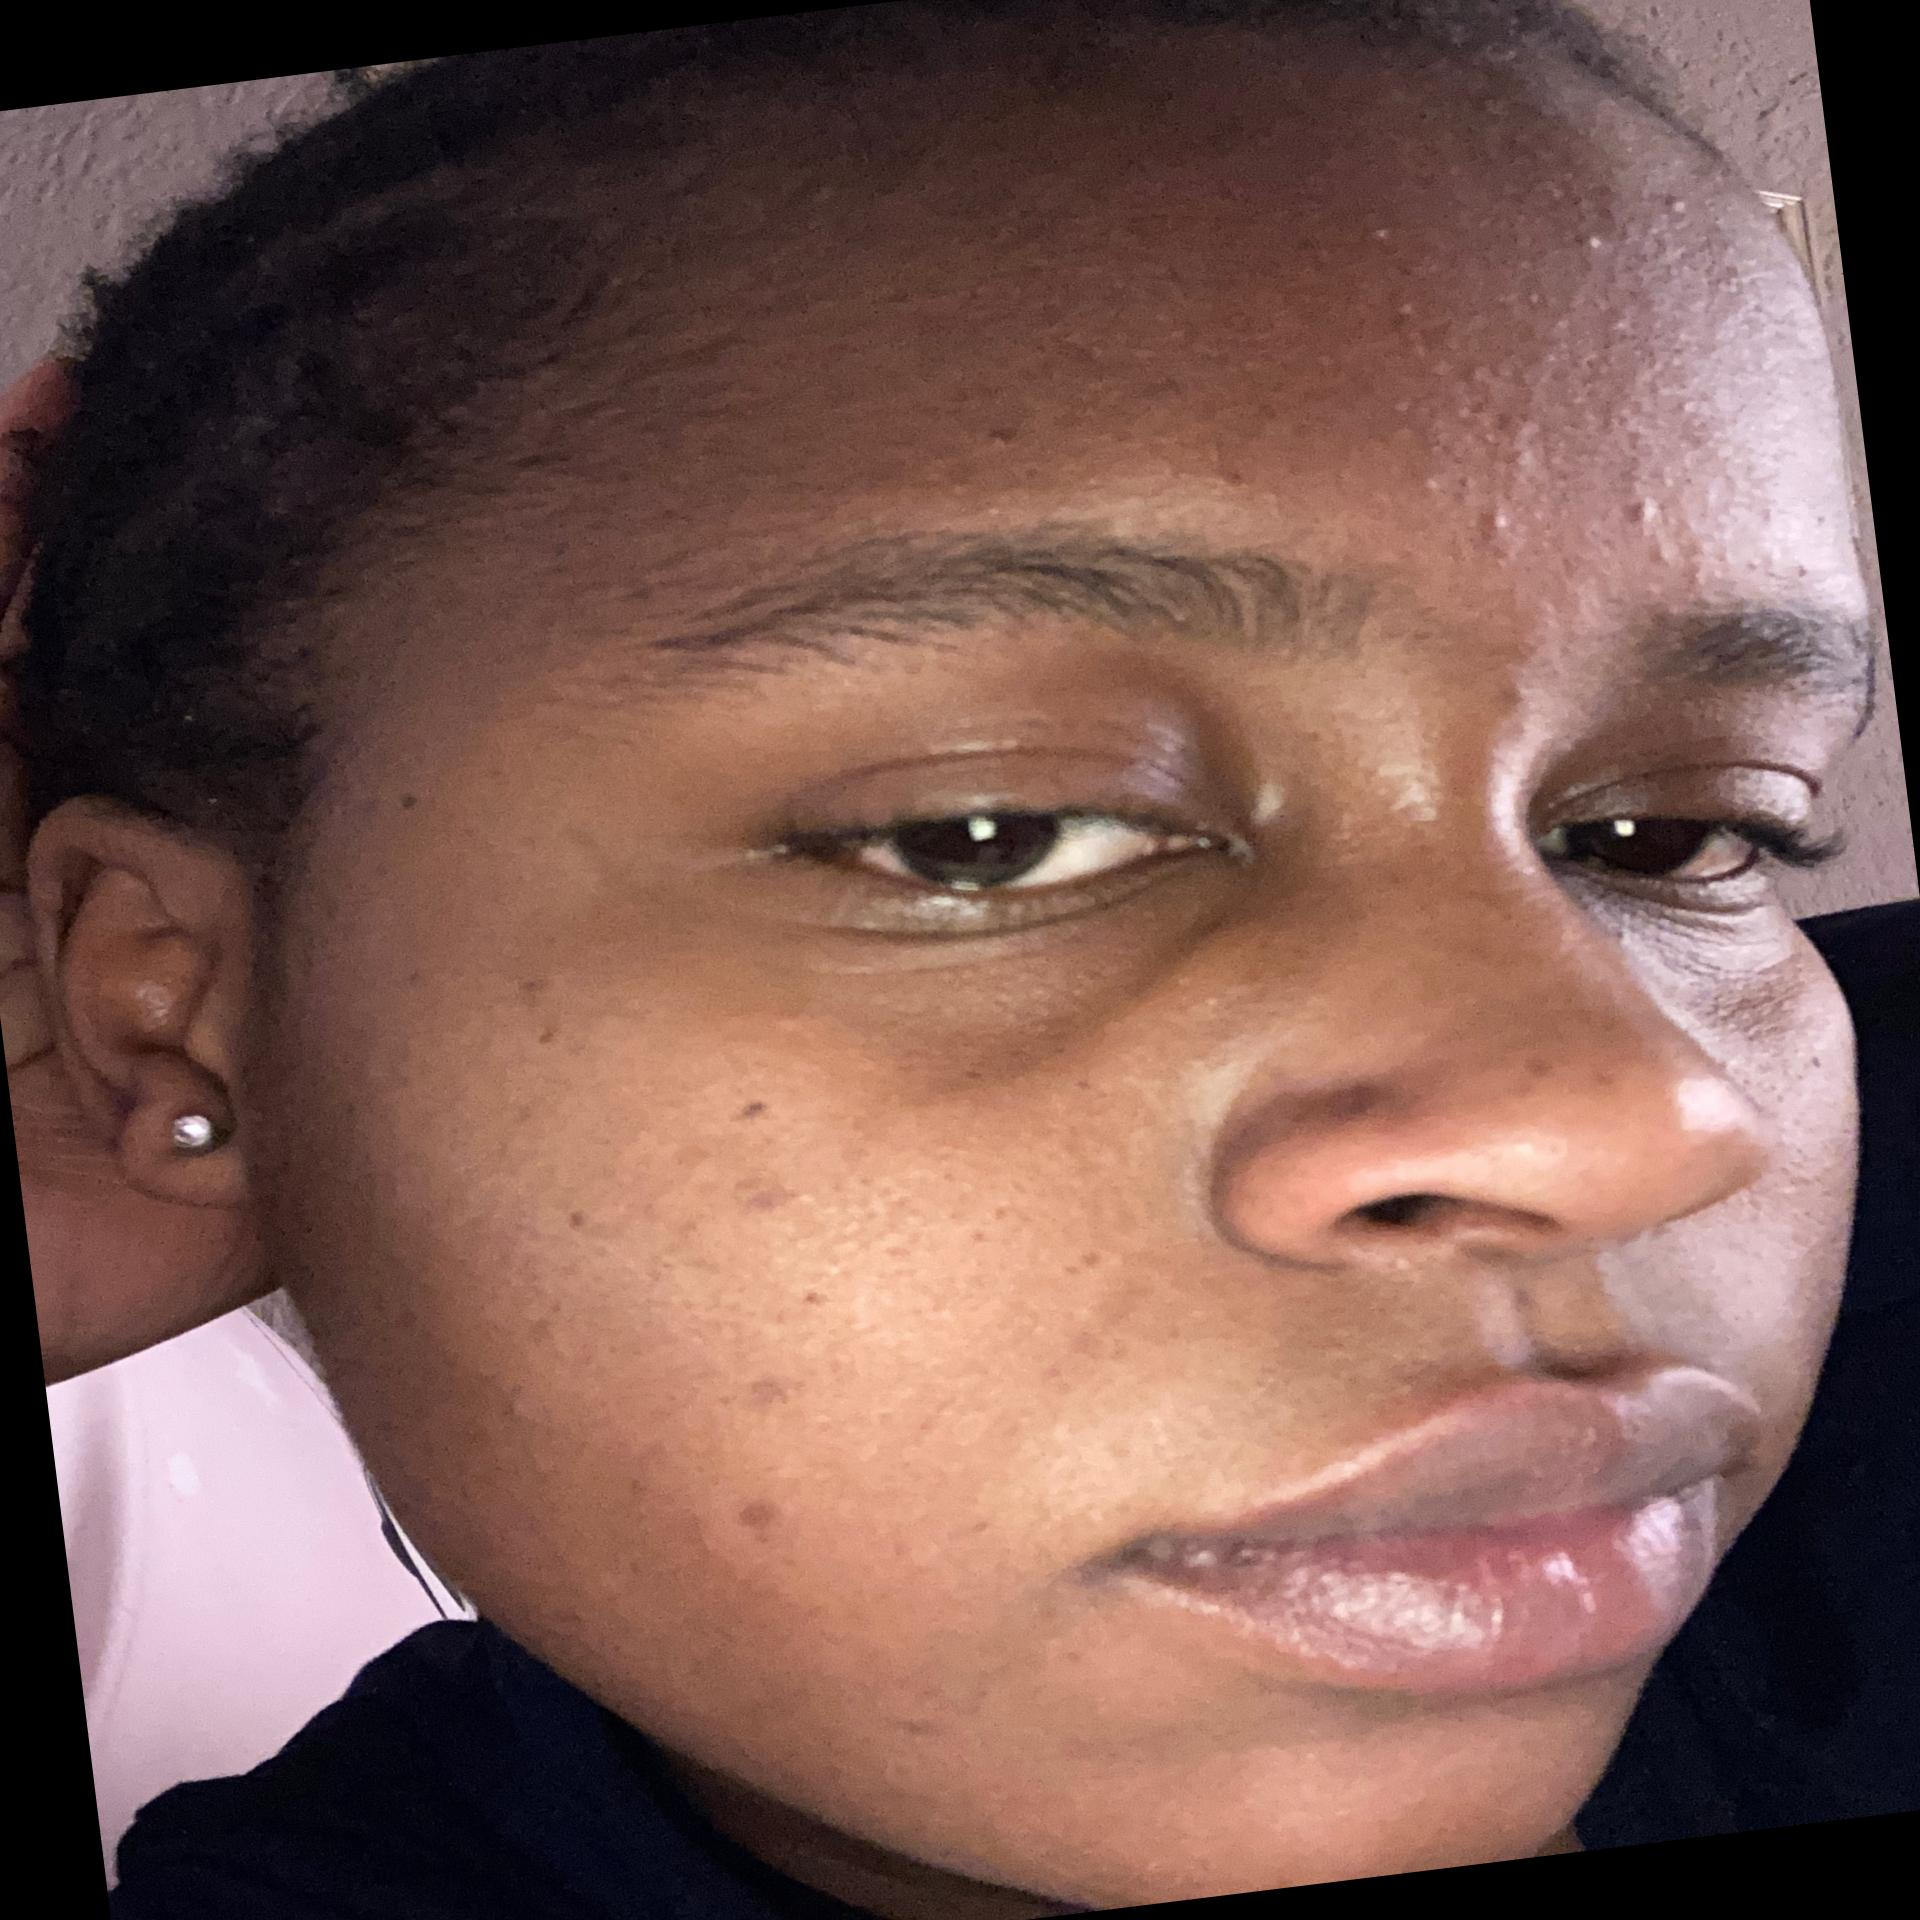Acne: (703, 1071, 865, 1322), (1387, 348, 1561, 485), (1495, 1029, 1632, 1102), (874, 1690, 985, 1771), (1602, 485, 1697, 577), (1146, 433, 1275, 499), (501, 944, 573, 1060), (542, 1176, 617, 1271), (480, 1361, 564, 1442), (1451, 485, 1535, 563), (1384, 281, 1468, 359), (1122, 355, 1222, 420), (719, 1473, 793, 1561), (731, 1347, 805, 1429), (1549, 215, 1646, 267), (962, 408, 1037, 464), (1480, 663, 1551, 719), (958, 1197, 1025, 1254), (1343, 215, 1424, 257), (1632, 186, 1709, 229), (1793, 1043, 1860, 1081), (389, 777, 431, 830), (1756, 489, 1802, 524), (1788, 547, 1823, 584)
Dark Circles: (719, 830, 1319, 1129), (1568, 837, 1846, 1076)
Wrinkles: (932, 1252, 1197, 1524)
